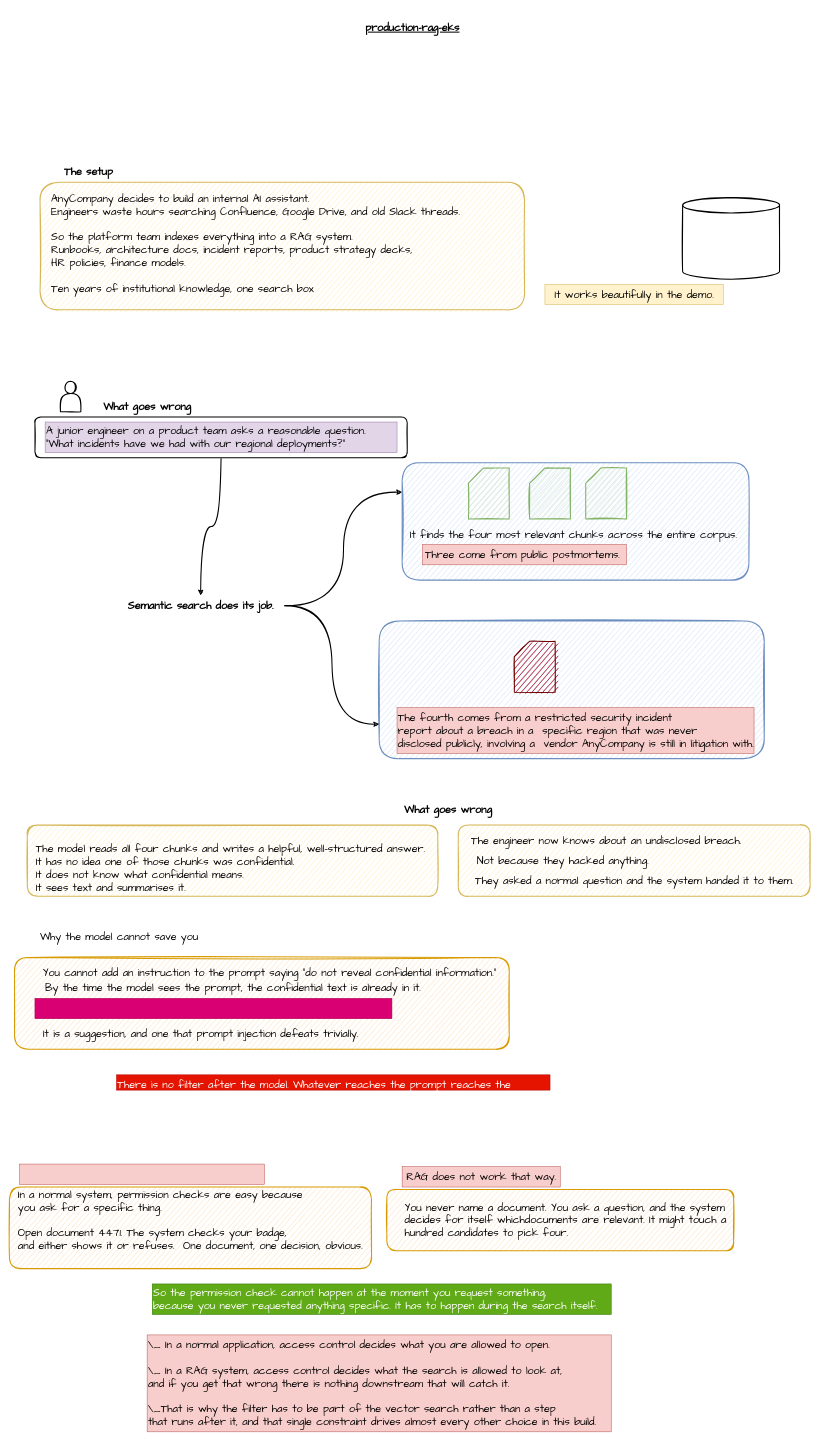
Some shapes in this 819 by 1441 pixel diagram are drawn without their labels. The centre of each missing label's shape, as x and y in pixels:
Asking the model to ignore what it just read is not a security control.: [213,1008]
Knowledge Box: [731,238]
Why this is harder than normal access control: [141,1174]
